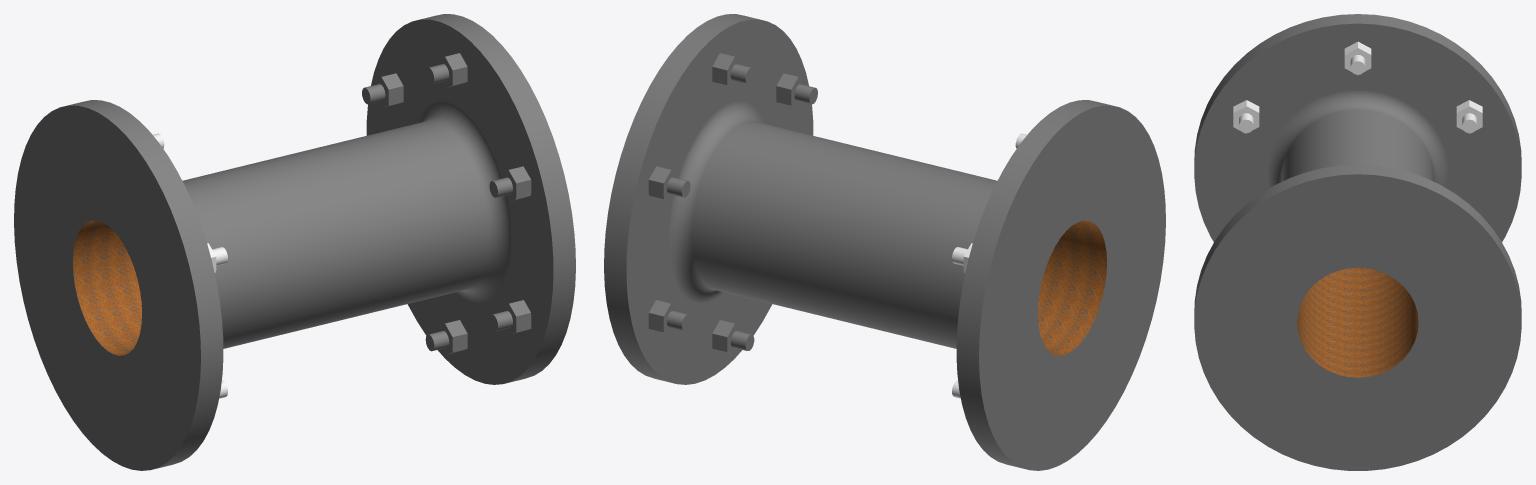
The picture shows the model from 3 angles, left to right: view 1: azimuth 30°, elevation 25°; view 2: azimuth 150°, elevation 25°; view 3: azimuth 270°, elevation 25°; orthographic projection. The views are drawn at different scales.
Parts seen in each view (by area): view 1: Volumenkörper1; view 2: Volumenkörper1; view 3: Volumenkörper1.
Boxes of the visible parts, left/top/right/bottom form: Volumenkörper1: left=14, top=14, right=575, bottom=470; Volumenkörper1: left=604, top=14, right=1165, bottom=470; Volumenkörper1: left=1194, top=14, right=1521, bottom=470.
Bounding box in the file's own units: 0.25 × 0.2158 × 0.2159.
3 materials, 1 textured.
